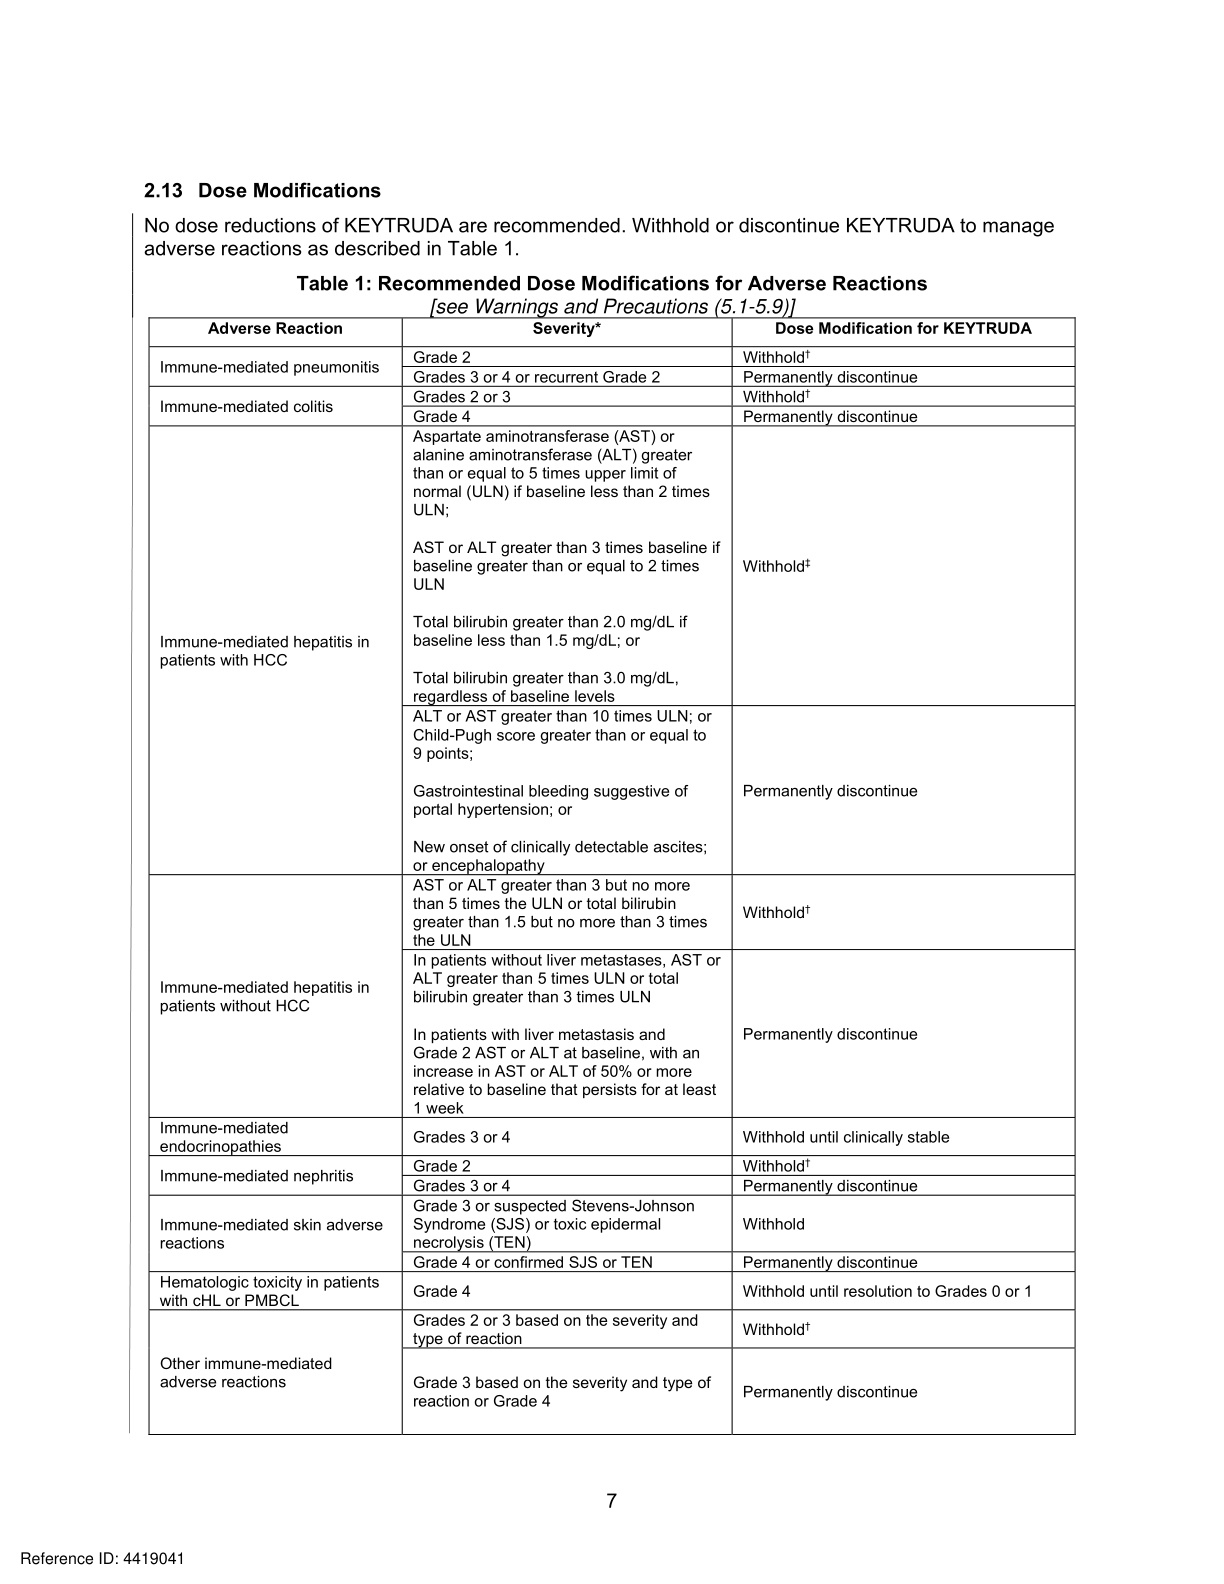merged_cells: (147, 315, 1077, 1437)
